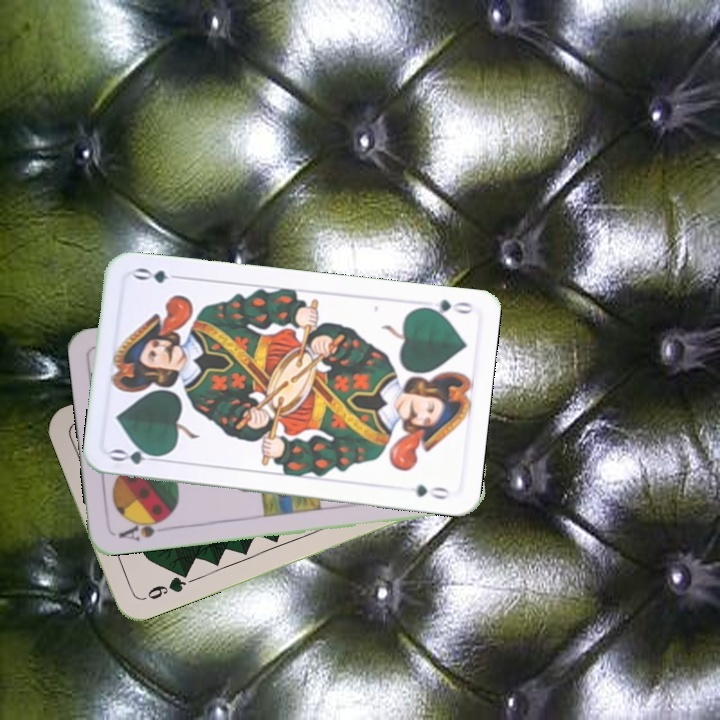G9: (136, 569, 191, 604)
GO: (415, 295, 475, 320), (107, 444, 167, 467)
SA: (114, 513, 172, 544)
